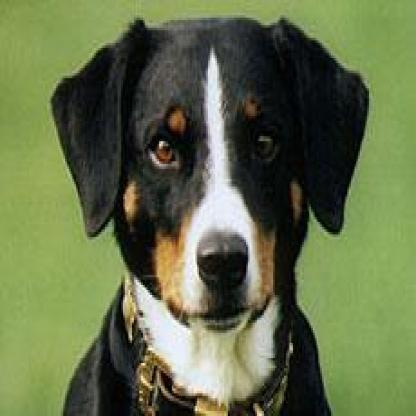Appenzeller: (45, 13, 369, 408)
